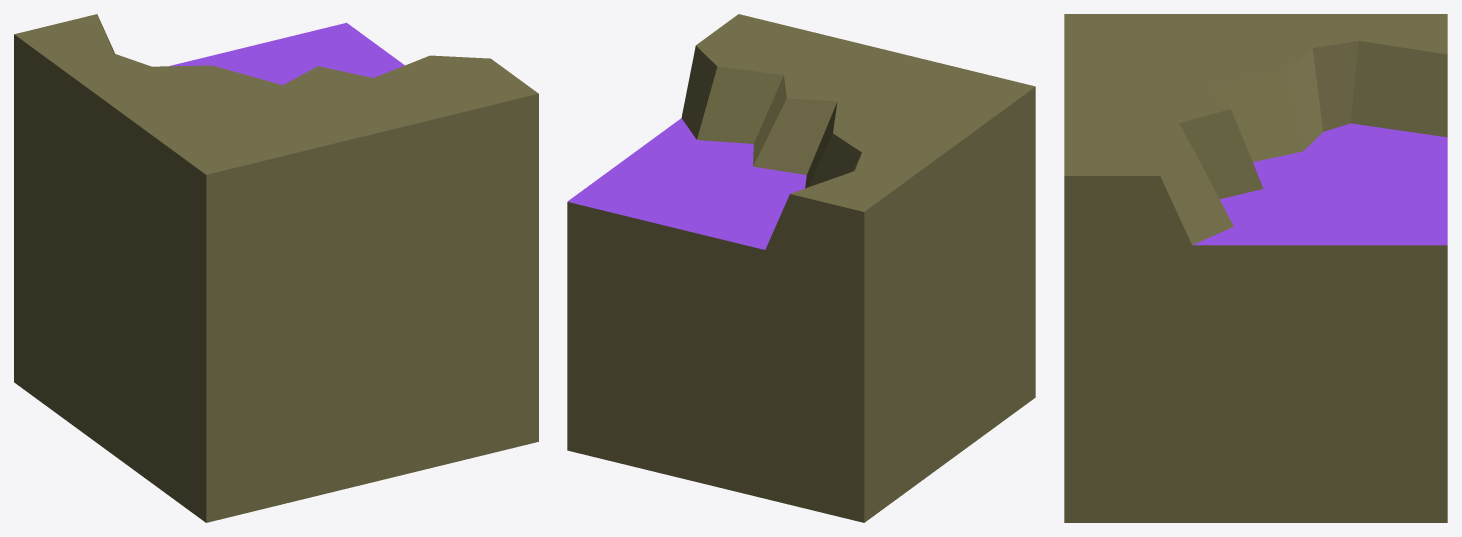
Rendered from tile_toxic_deep2_4a_02.fbx.
3 views of the same model, side by side, from view 1: azimuth 30°, elevation 25°; view 2: azimuth 150°, elevation 25°; view 3: azimuth 270°, elevation 25° (orthographic). The views are drawn at different scales.
Visible parts, largest first — view 1: tile_toxic_deep2_4a_02; view 2: tile_toxic_deep2_4a_02; view 3: tile_toxic_deep2_4a_02.
Part boxes in pixels (bbox=[...]): tile_toxic_deep2_4a_02: bbox=[14, 14, 538, 522]; tile_toxic_deep2_4a_02: bbox=[567, 14, 1035, 522]; tile_toxic_deep2_4a_02: bbox=[1064, 14, 1447, 522].
Size of the model in its own units: 100 by 100 by 100.
